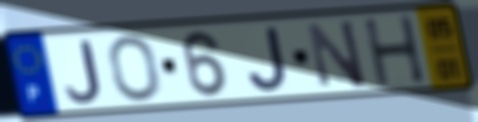6: (180, 28, 230, 100)
H: (360, 13, 429, 89)
J: (245, 24, 291, 94), (63, 38, 104, 105)
N: (303, 17, 370, 90)
O: (106, 32, 164, 103)
